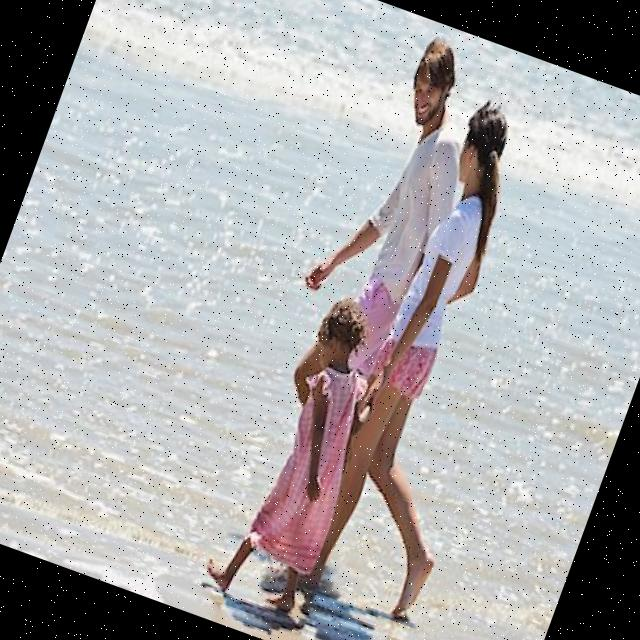Person: (299, 100, 590, 624), (264, 22, 506, 435), (201, 284, 406, 620)
